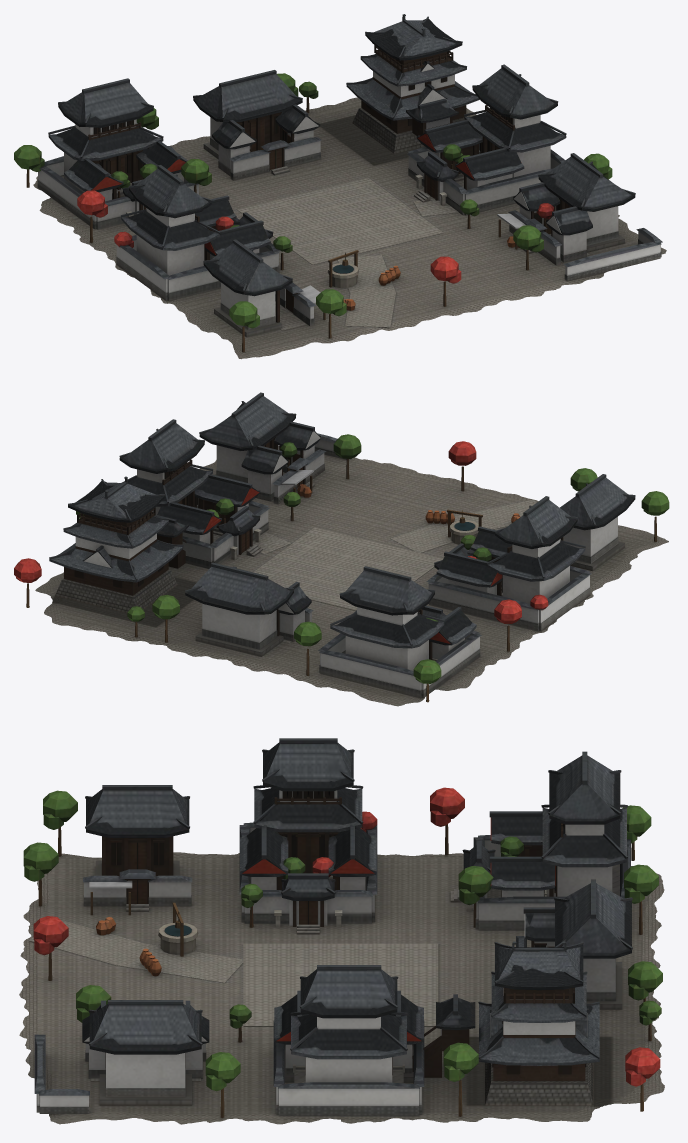
The model's file is kingdoms-town-small-b-japan-8e320e88.glb.
3 views of the same model, one above another, from view 1: azimuth 30°, elevation 25°; view 2: azimuth 150°, elevation 25°; view 3: azimuth 270°, elevation 25° (orthographic). The views are drawn at different scales.
Visible parts, largest first — view 1: LOD0; view 2: LOD0; view 3: LOD0.
Part boxes in pixels (box(x1,y1,x2,y2)): LOD0: box(14, 14, 666, 359); LOD0: box(14, 392, 669, 706); LOD0: box(19, 738, 664, 1124).
Size of what is drawn, in the model's own units: 4.04 by 0.9642 by 4.06.
Materials: 3 (3 with a texture image).
